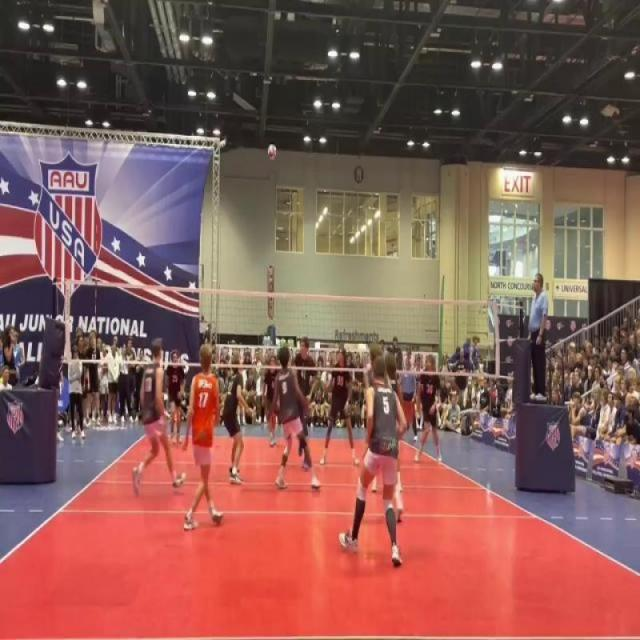volleyball: (266, 142, 278, 162)
